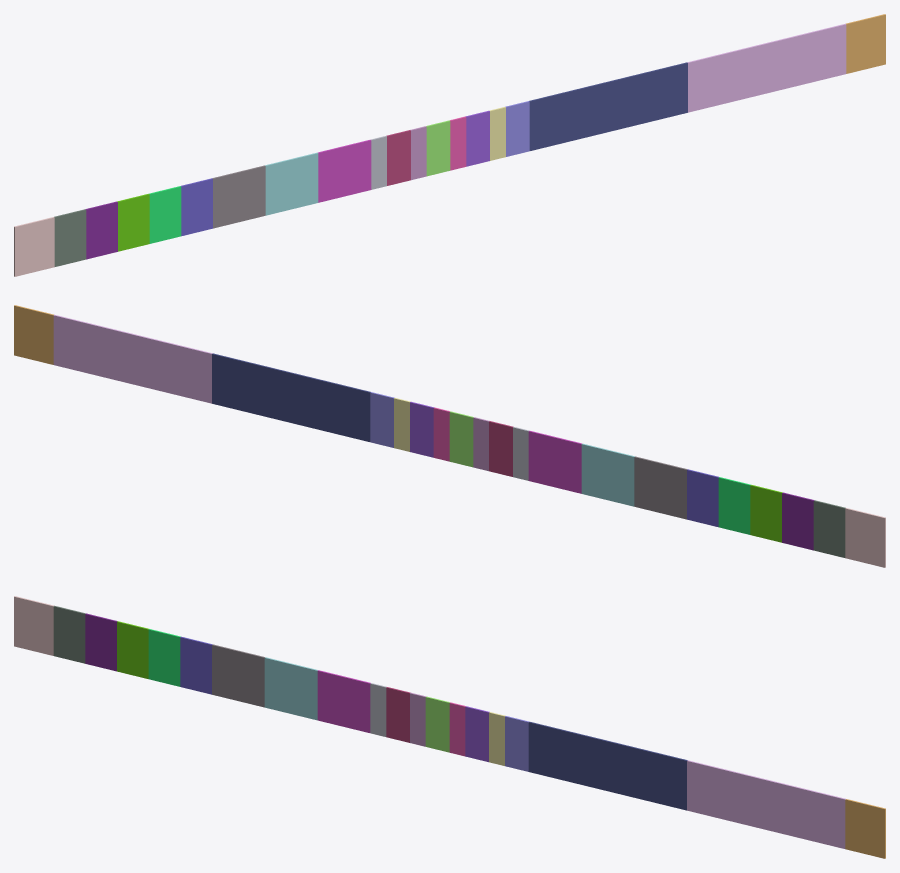
File: Elements_Spatial_Grid1d.glb
3 renders of one model, top to bottom at view 1: azimuth 30°, elevation 25°; view 2: azimuth 150°, elevation 25°; view 3: azimuth 330°, elevation 25°, orthographic.
Visible parts, largest first — view 1: 24a512c1-165a-4fe2-8beb-71aaaf1e2688_mesh, cfc9d24b-e67f-4ebe-b720-5fda99276485_mesh, 2c0cd3e0-6cb4-4208-be78-25cbafc896e6_mesh, aa066b7f-34c1-468d-8a9e-05b03b9459a0_mesh, 8fc280c4-4b98-4d6f-8d27-6ed74610a01e_mesh, 64e259e0-2858-46a4-a5cd-31dbee847bf2_mesh, e9967c5c-e62a-4fd6-9a41-a0cedad5a9e2_mesh, e9169684-7df0-454f-b713-a22671e36bfd_mesh, dff2f466-6e61-4649-9044-d4802cf5f669_mesh, 70327412-68c4-47aa-b467-bfdf9f58f554_mesh, d63aabb1-3841-41aa-bca6-b6ece53e18d6_mesh, fb48f484-8ee7-4f5e-aa44-d7a108b85f96_mesh (+8 smaller); view 2: 24a512c1-165a-4fe2-8beb-71aaaf1e2688_mesh, cfc9d24b-e67f-4ebe-b720-5fda99276485_mesh, 2c0cd3e0-6cb4-4208-be78-25cbafc896e6_mesh, aa066b7f-34c1-468d-8a9e-05b03b9459a0_mesh, 8fc280c4-4b98-4d6f-8d27-6ed74610a01e_mesh, 64e259e0-2858-46a4-a5cd-31dbee847bf2_mesh, e9967c5c-e62a-4fd6-9a41-a0cedad5a9e2_mesh, e9169684-7df0-454f-b713-a22671e36bfd_mesh, dff2f466-6e61-4649-9044-d4802cf5f669_mesh, 70327412-68c4-47aa-b467-bfdf9f58f554_mesh, d63aabb1-3841-41aa-bca6-b6ece53e18d6_mesh, fb48f484-8ee7-4f5e-aa44-d7a108b85f96_mesh (+8 smaller); view 3: cfc9d24b-e67f-4ebe-b720-5fda99276485_mesh, 24a512c1-165a-4fe2-8beb-71aaaf1e2688_mesh, aa066b7f-34c1-468d-8a9e-05b03b9459a0_mesh, 2c0cd3e0-6cb4-4208-be78-25cbafc896e6_mesh, 8fc280c4-4b98-4d6f-8d27-6ed74610a01e_mesh, e9967c5c-e62a-4fd6-9a41-a0cedad5a9e2_mesh, 64e259e0-2858-46a4-a5cd-31dbee847bf2_mesh, e9169684-7df0-454f-b713-a22671e36bfd_mesh, dff2f466-6e61-4649-9044-d4802cf5f669_mesh, 70327412-68c4-47aa-b467-bfdf9f58f554_mesh, d63aabb1-3841-41aa-bca6-b6ece53e18d6_mesh, fb48f484-8ee7-4f5e-aa44-d7a108b85f96_mesh (+8 smaller).
Part boxes in pixels (bbox=[...]): 24a512c1-165a-4fe2-8beb-71aaaf1e2688_mesh: bbox=[687, 23, 846, 112]; cfc9d24b-e67f-4ebe-b720-5fda99276485_mesh: bbox=[529, 62, 687, 150]; 2c0cd3e0-6cb4-4208-be78-25cbafc896e6_mesh: bbox=[318, 139, 371, 202]; aa066b7f-34c1-468d-8a9e-05b03b9459a0_mesh: bbox=[265, 152, 318, 215]; 8fc280c4-4b98-4d6f-8d27-6ed74610a01e_mesh: bbox=[212, 165, 265, 228]; 64e259e0-2858-46a4-a5cd-31dbee847bf2_mesh: bbox=[14, 217, 54, 276]; e9967c5c-e62a-4fd6-9a41-a0cedad5a9e2_mesh: bbox=[846, 14, 885, 73]; e9169684-7df0-454f-b713-a22671e36bfd_mesh: bbox=[54, 209, 86, 266]; dff2f466-6e61-4649-9044-d4802cf5f669_mesh: bbox=[149, 186, 181, 243]; 70327412-68c4-47aa-b467-bfdf9f58f554_mesh: bbox=[181, 178, 212, 236]; d63aabb1-3841-41aa-bca6-b6ece53e18d6_mesh: bbox=[85, 201, 117, 259]; fb48f484-8ee7-4f5e-aa44-d7a108b85f96_mesh: bbox=[117, 194, 149, 251]; 24a512c1-165a-4fe2-8beb-71aaaf1e2688_mesh: bbox=[53, 314, 212, 403]; cfc9d24b-e67f-4ebe-b720-5fda99276485_mesh: bbox=[212, 353, 370, 441]; 2c0cd3e0-6cb4-4208-be78-25cbafc896e6_mesh: bbox=[528, 430, 581, 493]; aa066b7f-34c1-468d-8a9e-05b03b9459a0_mesh: bbox=[581, 443, 634, 506]; 8fc280c4-4b98-4d6f-8d27-6ed74610a01e_mesh: bbox=[634, 456, 687, 519]; 64e259e0-2858-46a4-a5cd-31dbee847bf2_mesh: bbox=[845, 508, 885, 567]; e9967c5c-e62a-4fd6-9a41-a0cedad5a9e2_mesh: bbox=[14, 305, 53, 364]; e9169684-7df0-454f-b713-a22671e36bfd_mesh: bbox=[813, 500, 845, 557]; dff2f466-6e61-4649-9044-d4802cf5f669_mesh: bbox=[718, 477, 750, 534]; 70327412-68c4-47aa-b467-bfdf9f58f554_mesh: bbox=[687, 469, 718, 527]; d63aabb1-3841-41aa-bca6-b6ece53e18d6_mesh: bbox=[782, 492, 814, 550]; fb48f484-8ee7-4f5e-aa44-d7a108b85f96_mesh: bbox=[750, 485, 782, 542]; cfc9d24b-e67f-4ebe-b720-5fda99276485_mesh: bbox=[528, 721, 687, 810]; 24a512c1-165a-4fe2-8beb-71aaaf1e2688_mesh: bbox=[687, 760, 845, 848]; aa066b7f-34c1-468d-8a9e-05b03b9459a0_mesh: bbox=[264, 657, 317, 720]; 2c0cd3e0-6cb4-4208-be78-25cbafc896e6_mesh: bbox=[317, 670, 370, 732]; 8fc280c4-4b98-4d6f-8d27-6ed74610a01e_mesh: bbox=[212, 644, 265, 707]; e9967c5c-e62a-4fd6-9a41-a0cedad5a9e2_mesh: bbox=[845, 799, 885, 858]; 64e259e0-2858-46a4-a5cd-31dbee847bf2_mesh: bbox=[14, 596, 53, 655]; e9169684-7df0-454f-b713-a22671e36bfd_mesh: bbox=[53, 605, 85, 663]; dff2f466-6e61-4649-9044-d4802cf5f669_mesh: bbox=[148, 629, 180, 686]; 70327412-68c4-47aa-b467-bfdf9f58f554_mesh: bbox=[180, 636, 212, 694]; d63aabb1-3841-41aa-bca6-b6ece53e18d6_mesh: bbox=[85, 613, 117, 671]; fb48f484-8ee7-4f5e-aa44-d7a108b85f96_mesh: bbox=[117, 621, 148, 678].
Bounding box in the file's own units: 55 × 3 × 0.1.
